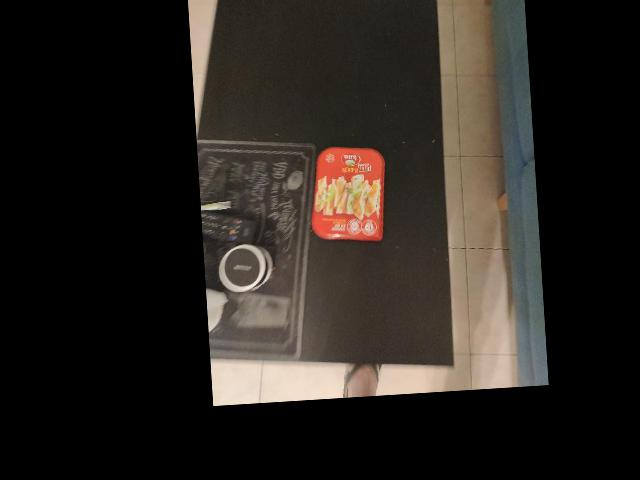cheese: (310, 145, 394, 255)
